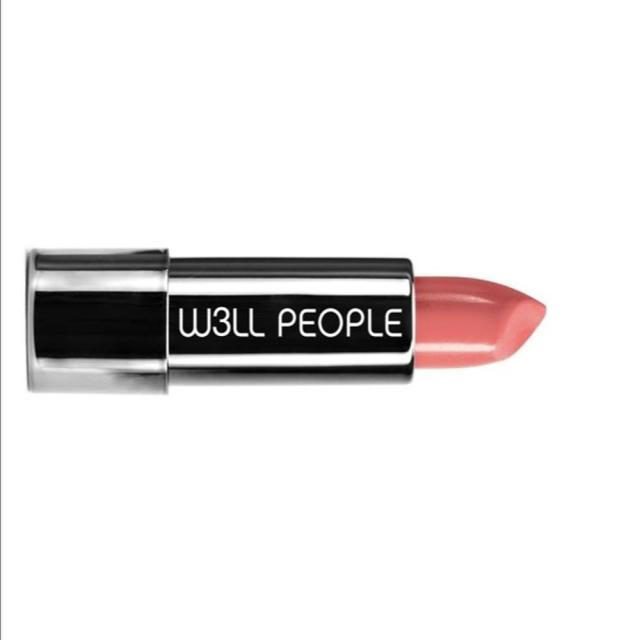lipstick: (14, 223, 574, 406)
